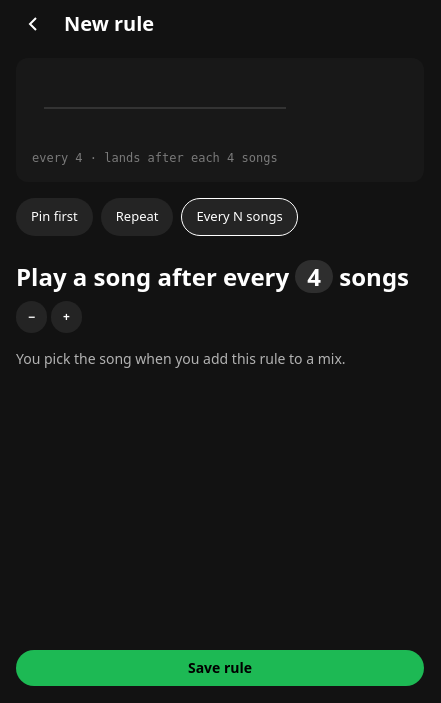
Test: RuleEditor › switching chips updates the sentence, with default N per kind
Click the button "Repeat" at (137,217), box left=101, top=198, right=174, bottom=236
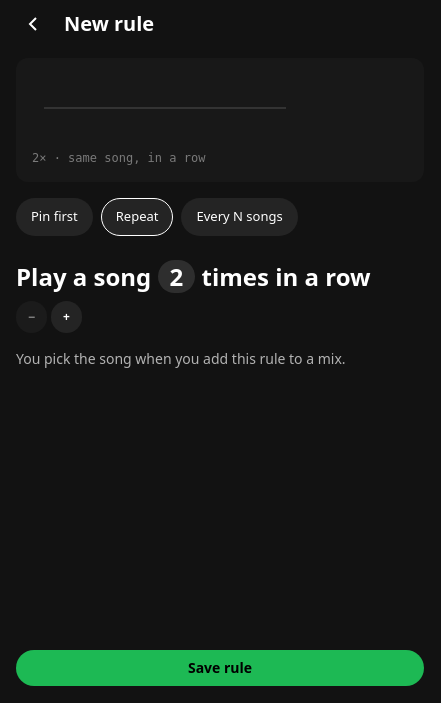
Now the element with test id "rule-sentence" reads "Play a song 2 times in a row", box left=16, top=260, right=370, bottom=292
Click the button "Pin first" at (54,217), box left=16, top=198, right=93, bottom=236
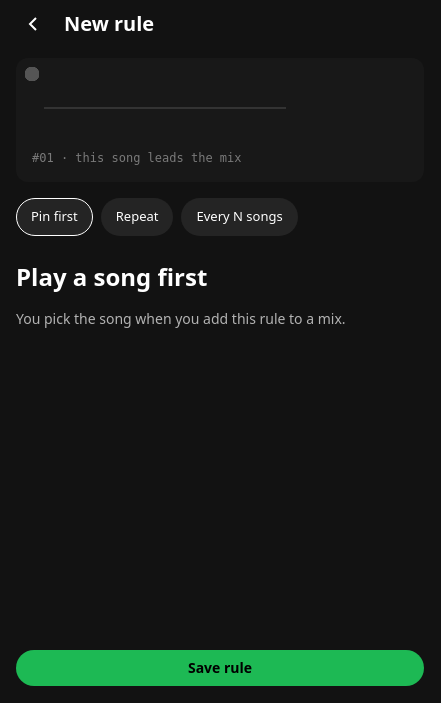
Now the text with test id "rule-sentence" reads "Play a song first", box left=16, top=260, right=207, bottom=292
Now the text "#01 · this song leads the mix" is shown, box left=32, top=151, right=242, bottom=165
